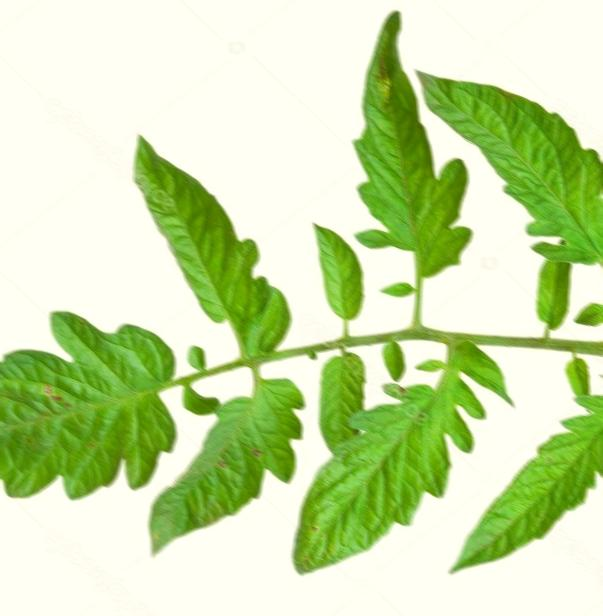Tomato leaf: (277, 345, 504, 584), (422, 68, 603, 289), (0, 306, 186, 507), (444, 369, 603, 581), (116, 136, 272, 349), (139, 362, 314, 547), (360, 0, 460, 288)
